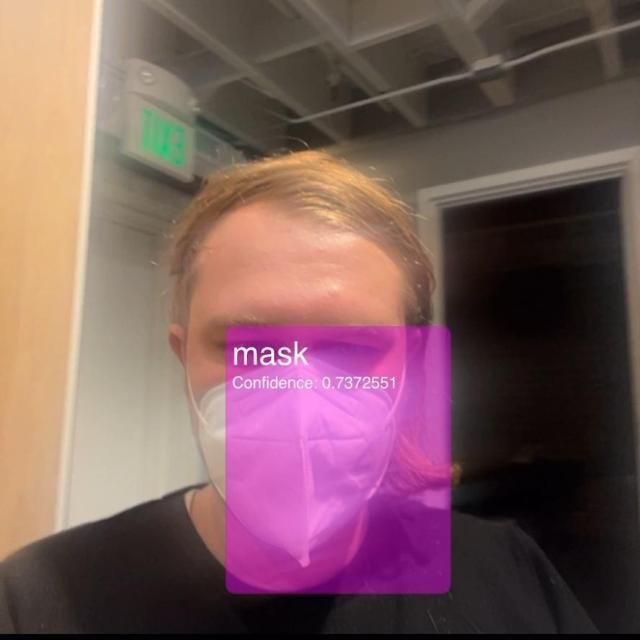no-helmet: (162, 145, 460, 591)
